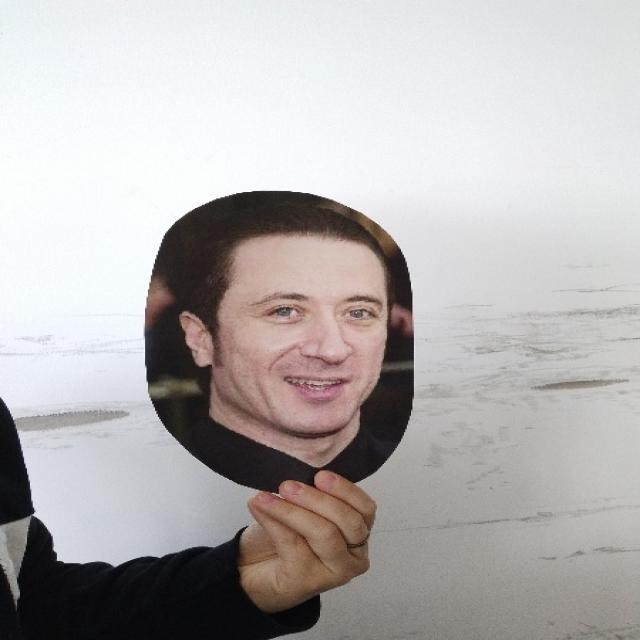photo: (132, 180, 424, 502)
